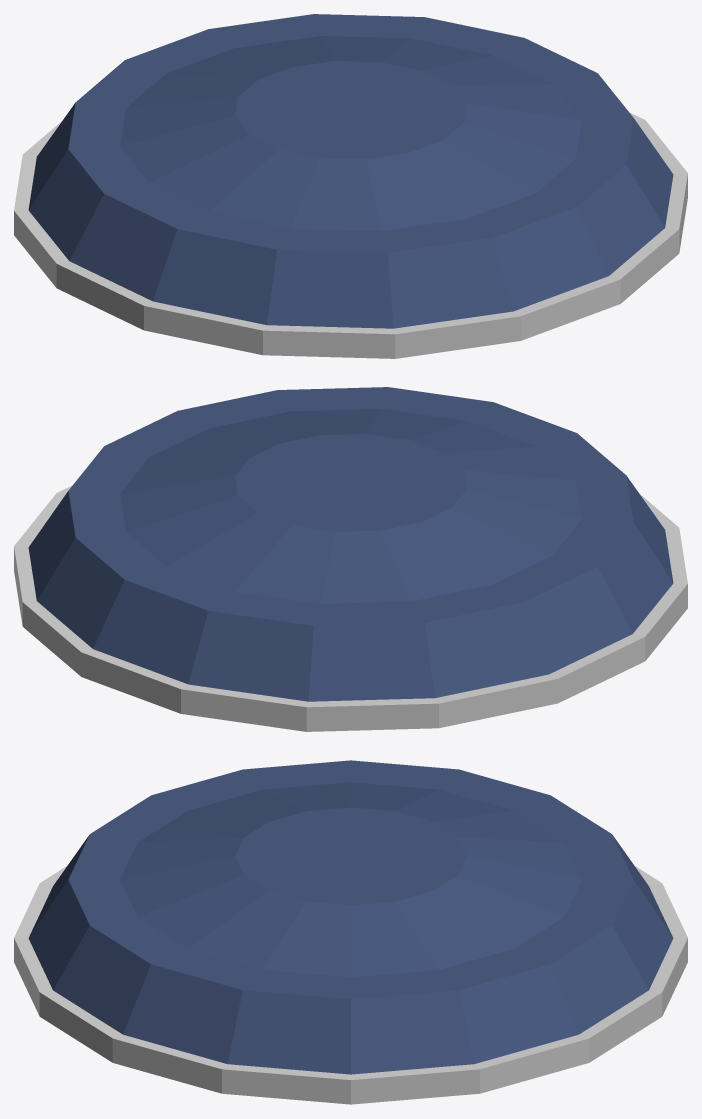
File: Shield_5_b_bl.fbx
3 views of the same model, one above another, from view 1: azimuth 30°, elevation 25°; view 2: azimuth 150°, elevation 25°; view 3: azimuth 270°, elevation 25° (orthographic).
Visible parts, largest first — view 1: Circle.410, Circle.411; view 2: Circle.410, Circle.411; view 3: Circle.410, Circle.411.
Part boxes in pixels (<box>): Circle.410: <box>28,14,673,328</box>; Circle.411: <box>14,112,687,358</box>; Circle.410: <box>28,387,673,701</box>; Circle.411: <box>14,485,687,731</box>; Circle.410: <box>28,760,673,1074</box>; Circle.411: <box>14,866,687,1104</box>.
Bounding box in the file's own units: 52.25 × 15.06 × 52.25.
